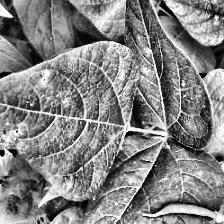Bean Rust: (0, 34, 131, 192), (67, 142, 224, 224), (118, 0, 213, 134)
